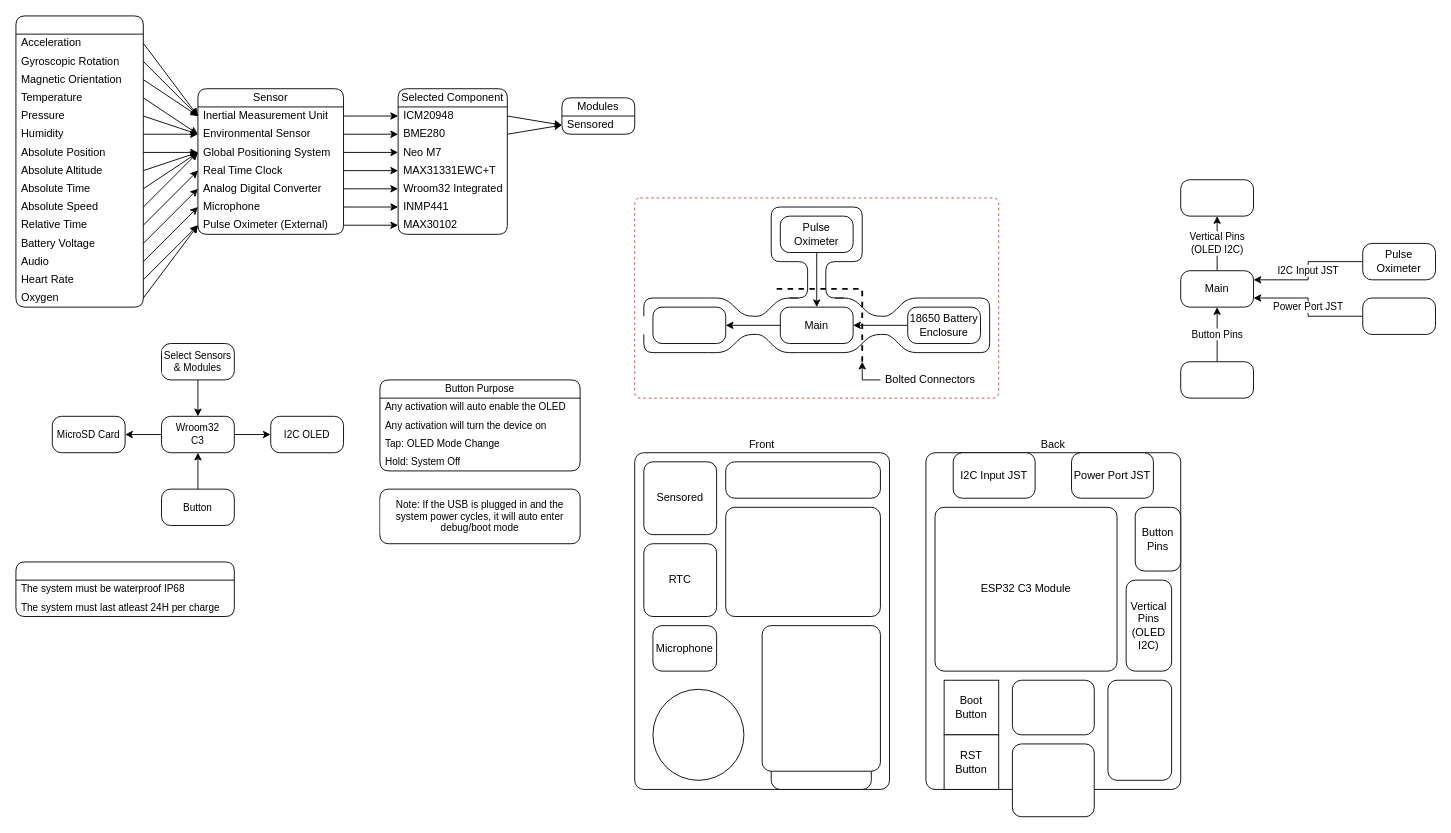
Some shapes in this 1451 by 833 pixel diagram are drawn without their labels. Each missing label, with the box of its shape:
2 Buttons: (1180, 361, 1254, 398)
Battery: (1362, 297, 1436, 334)
Coin Cell: (652, 688, 744, 780)
Coin Cell Changing Circuit: (1107, 679, 1172, 780)
Global Notes: (15, 561, 234, 617)
GPS: (725, 506, 880, 617)
GPS Antenna Driver: (725, 461, 880, 498)
LDO: (1011, 679, 1094, 735)
MicroSD Slot: (761, 625, 880, 771)
OLED: (1180, 179, 1254, 216)
Possible Configuration: (634, 197, 999, 398)
Sensing: (15, 15, 143, 307)
USBC Port: (1011, 743, 1094, 817)
Waterproof USBC: (652, 306, 726, 344)
